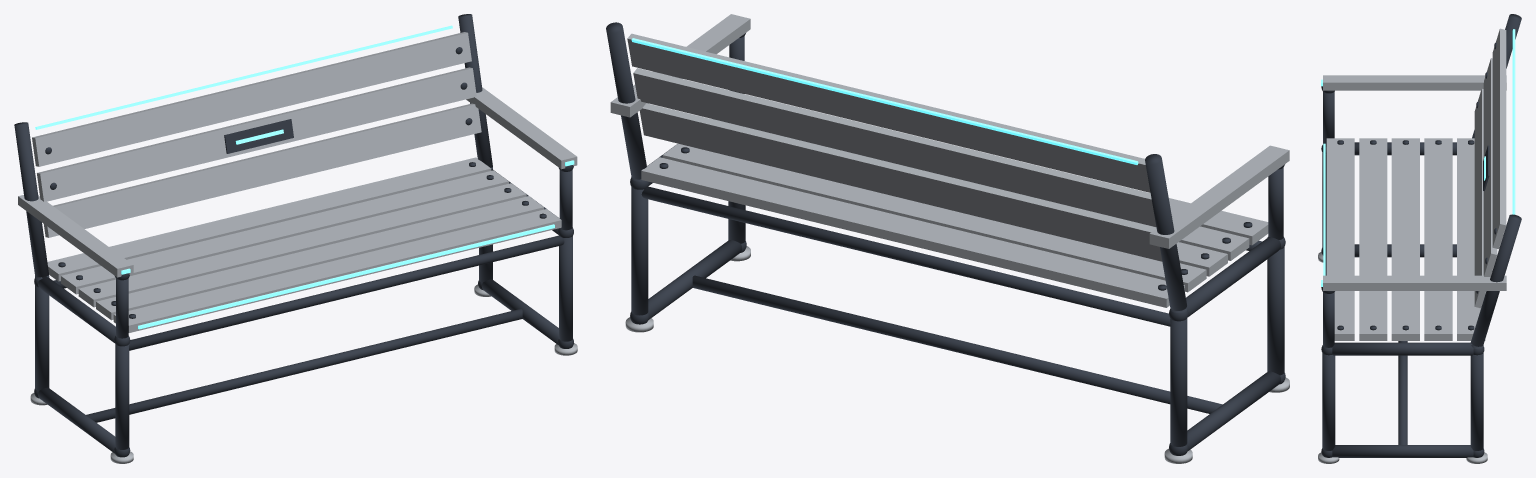
The model's file is benches.glb.
The picture shows the model from 3 angles, left to right: view 1: azimuth 30°, elevation 25°; view 2: azimuth 150°, elevation 25°; view 3: azimuth 270°, elevation 25°; orthographic projection. The views are drawn at different scales.
Visible parts, largest first — view 1: Bench_Back_Slat_03, Bench_Back_Slat_01, Bench_Back_Slat_02, Bench_Seat_Slat_01, Bench_Seat_Slat_02, Bench_Seat_Slat_03, Bench_Seat_Slat_04, Bench_Seat_Slat_05, Bench_Crossbar_Front, Bench_Crossbar_Floor, Bench_Armrest_L, Bench_Armrest_R (+13 smaller); view 2: Bench_Back_Slat_02, Bench_Back_Slat_01, Bench_Back_Slat_03, Bench_Seat_Slat_05, Bench_Seat_Slat_04, Bench_Crossbar_Rear, Bench_Crossbar_Floor, Bench_Armrest_L, Bench_Back_Post_L, Bench_Back_Post_R, Bench_Back_Top_Glow, Bench_Rear_Leg_L (+10 smaller); view 3: Bench_Seat_Slat_04, Bench_Seat_Slat_03, Bench_Seat_Slat_02, Bench_Seat_Slat_01, Bench_Seat_Slat_05, Bench_Back_Slat_03, Bench_Armrest_R, Bench_Armrest_L, Bench_Seat_Rail_R, Bench_Back_Slat_02, Bench_Back_Slat_01, Bench_Foot_Rail_R (+12 smaller).
Part boxes in pixels (x1,y1,x2,y2): Bench_Back_Slat_03: (32, 32, 471, 166); Bench_Back_Slat_01: (44, 103, 481, 237); Bench_Back_Slat_02: (37, 67, 476, 201); Bench_Seat_Slat_01: (113, 209, 561, 332); Bench_Seat_Slat_02: (96, 196, 543, 320); Bench_Seat_Slat_03: (78, 183, 526, 307); Bench_Seat_Slat_04: (61, 170, 508, 294); Bench_Seat_Slat_05: (47, 157, 491, 281); Bench_Crossbar_Front: (129, 235, 564, 350); Bench_Crossbar_Floor: (86, 309, 522, 422); Bench_Armrest_L: (18, 195, 133, 277); Bench_Armrest_R: (466, 87, 577, 169); Bench_Back_Slat_02: (633, 68, 1156, 226); Bench_Back_Slat_01: (639, 103, 1162, 261); Bench_Back_Slat_03: (627, 33, 1150, 192); Bench_Seat_Slat_05: (641, 157, 1184, 307); Bench_Seat_Slat_04: (662, 143, 1206, 292); Bench_Crossbar_Rear: (641, 186, 1170, 326); Bench_Crossbar_Floor: (692, 275, 1222, 413); Bench_Armrest_L: (1149, 145, 1289, 248); Bench_Back_Post_L: (1145, 154, 1186, 310); Bench_Back_Post_R: (606, 22, 646, 179); Bench_Back_Top_Glow: (631, 38, 1138, 164); Bench_Rear_Leg_L: (1170, 306, 1187, 446); Bench_Seat_Slat_04: (1424, 138, 1452, 340); Bench_Seat_Slat_03: (1391, 138, 1419, 340); Bench_Seat_Slat_02: (1359, 138, 1387, 340); Bench_Seat_Slat_01: (1326, 138, 1354, 340); Bench_Seat_Slat_05: (1457, 138, 1485, 340); Bench_Back_Slat_03: (1492, 28, 1506, 249); Bench_Armrest_R: (1323, 275, 1506, 290); Bench_Armrest_L: (1323, 75, 1506, 90); Bench_Seat_Rail_R: (1332, 342, 1473, 355); Bench_Back_Slat_02: (1483, 58, 1497, 276); Bench_Back_Slat_01: (1474, 89, 1486, 308); Bench_Foot_Rail_R: (1332, 445, 1473, 457).
Bounding box in the file's own units: 7.74 × 4.19 × 3.18.
